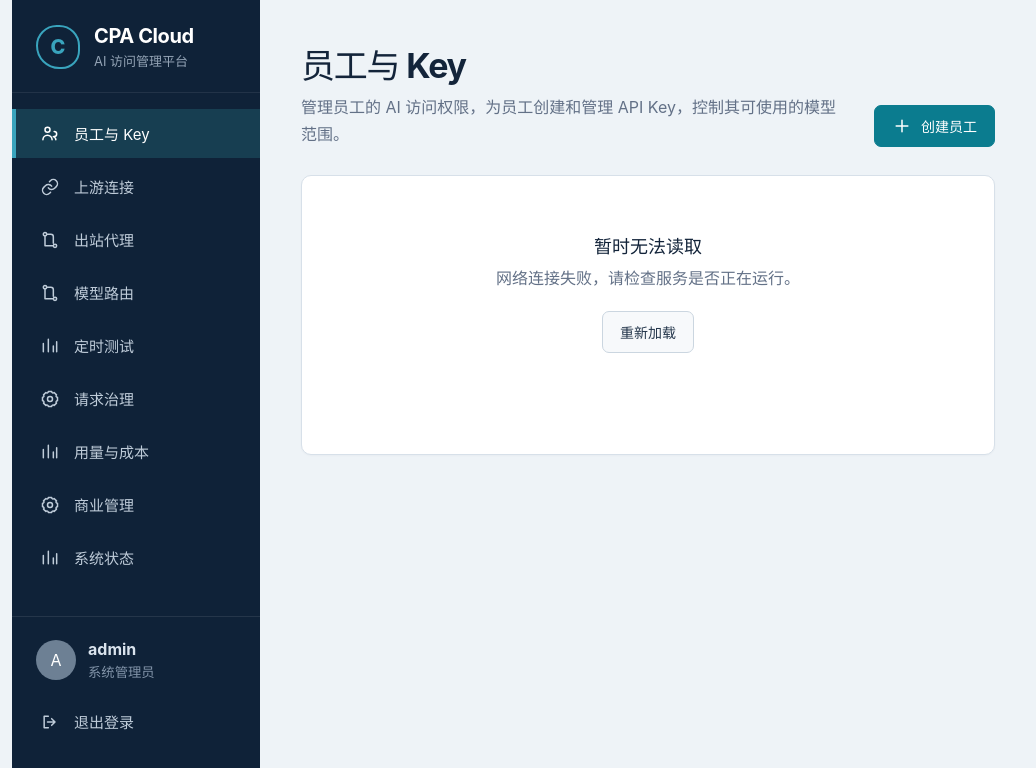
Test: administrator commercial management › gates navigation by capability and presents the default-off boundary
The width and height of the screenshot is (1036, 768).
Click the button "商业管理".
click(136, 504)  # box [12,480,260,529]
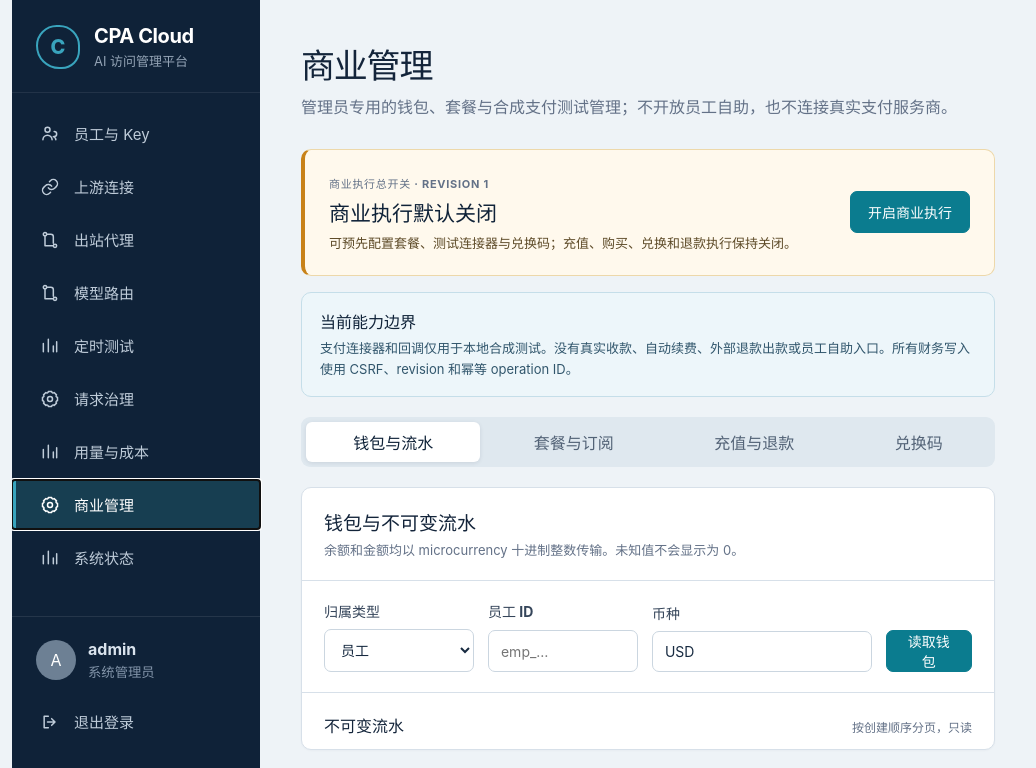
Expected: the heading "商业管理" is shown, [301,45,432,86]
Expected: the heading "商业执行默认关闭" is shown, [329,200,497,226]
Expected: the text "没有真实收款、自动续费" is shown, [320,340,892,356]
